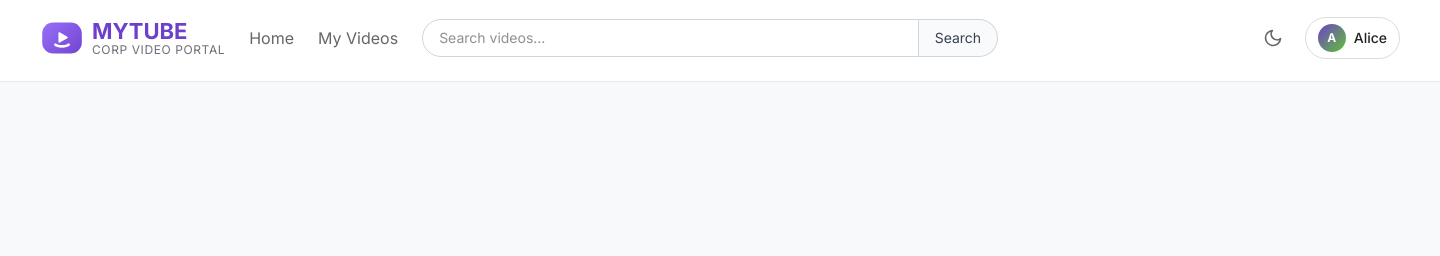
Test case: SiteHeader — authenticated › closes dropdown when a menu link is clicked
Click the button with aria-label "user menu": (1352, 38) [1305,16,1400,58]
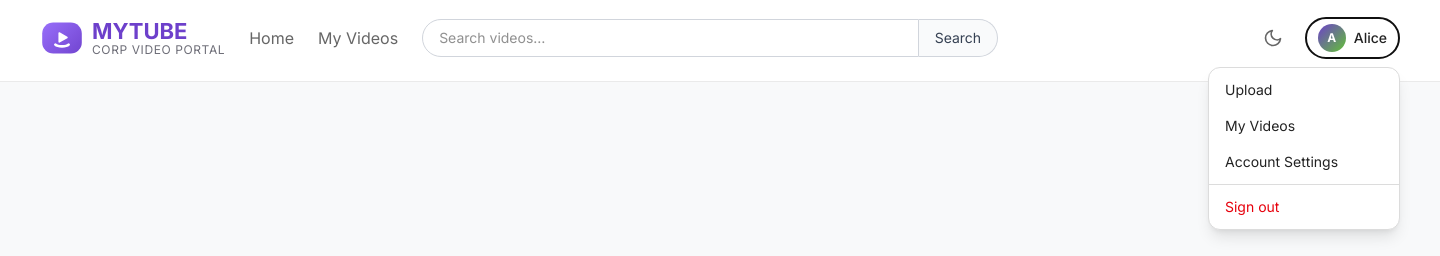
Click the menu item "Upload": (1249, 89) [1225,80,1272,98]
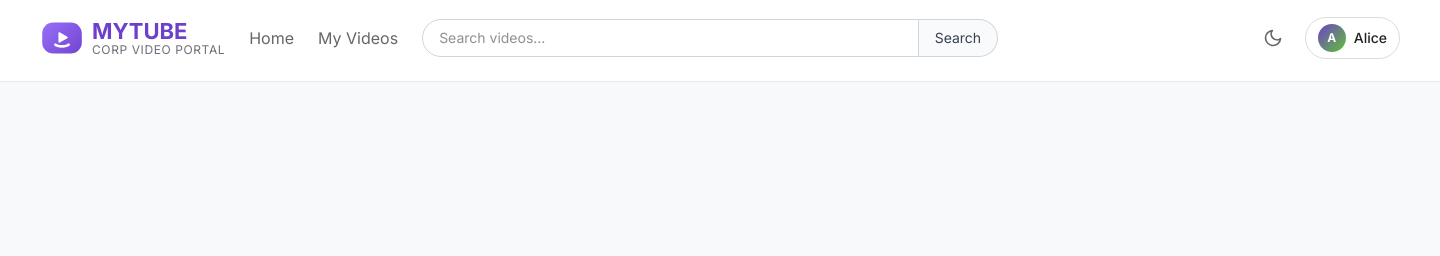
Now the menu is gone
